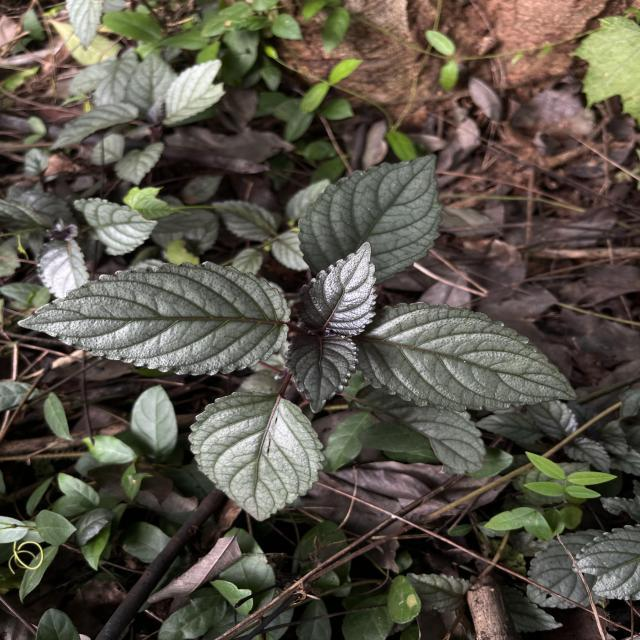Hemigraphis colorata: (16, 258, 294, 380), (356, 298, 581, 414), (294, 150, 446, 286), (185, 387, 330, 524), (289, 239, 380, 338), (282, 329, 362, 416)
